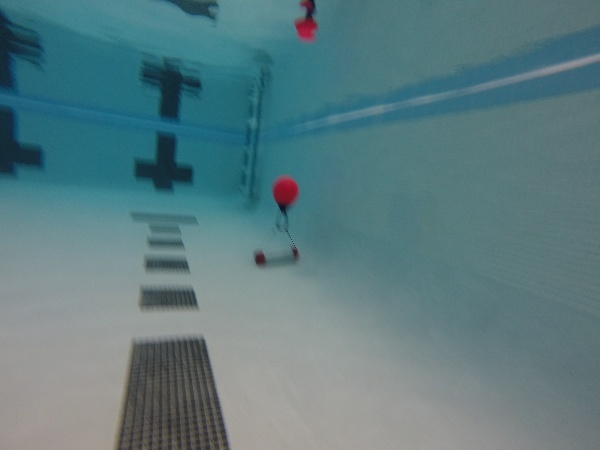buoy_red: (271, 176, 299, 212)
